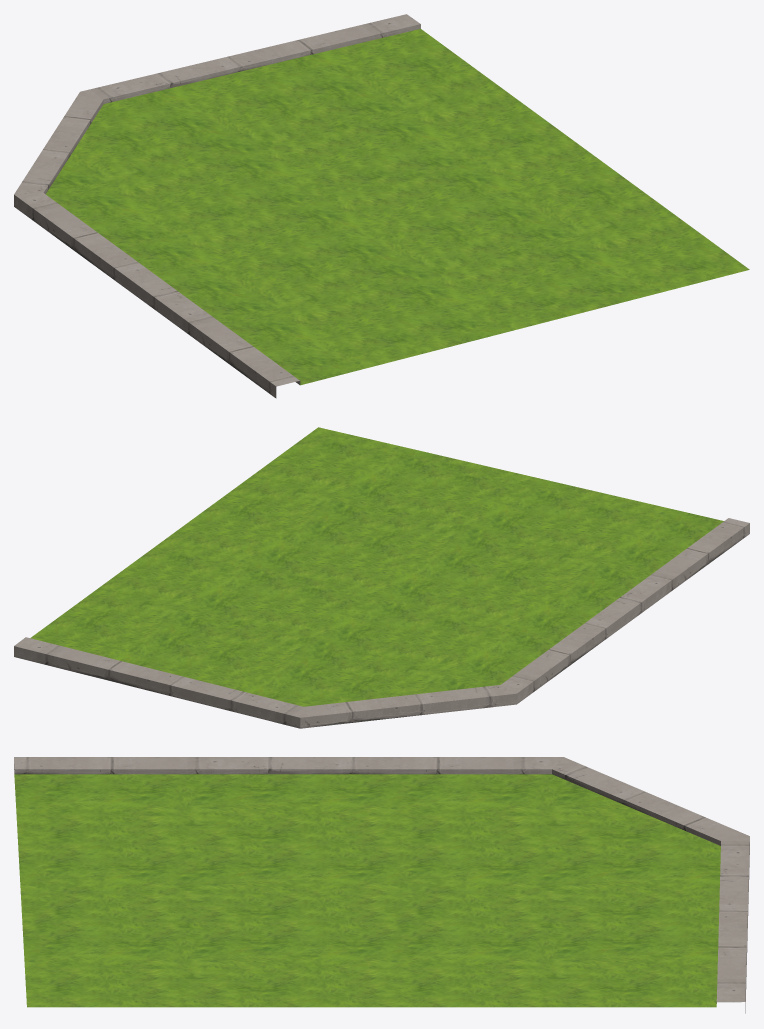
The model's file is GrassTile_F.fbx.
3 renders of one model, top to bottom at view 1: azimuth 30°, elevation 25°; view 2: azimuth 150°, elevation 25°; view 3: azimuth 270°, elevation 25°, orthographic. The views are drawn at different scales.
Parts seen in each view (by area): view 1: GrassTile_F; view 2: GrassTile_F; view 3: GrassTile_F.
Part boxes in pixels (bbox=[...]): GrassTile_F: bbox=[14, 14, 749, 398]; GrassTile_F: bbox=[14, 427, 749, 728]; GrassTile_F: bbox=[14, 757, 749, 1013].
Size of the model in its own units: 1396 by 33.99 by 1770.
2 materials, 2 textured.
